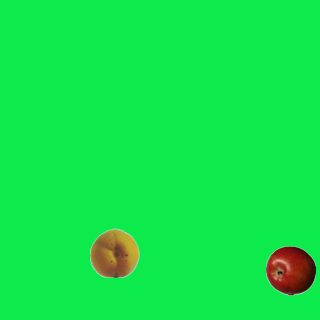Apple Braeburn: (265, 245, 315, 295)
Peach 2: (89, 227, 139, 277)
